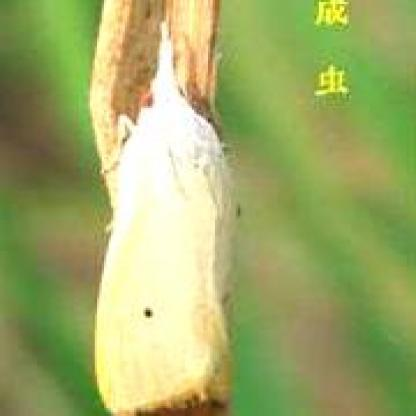stem-borer: (90, 19, 235, 416)
